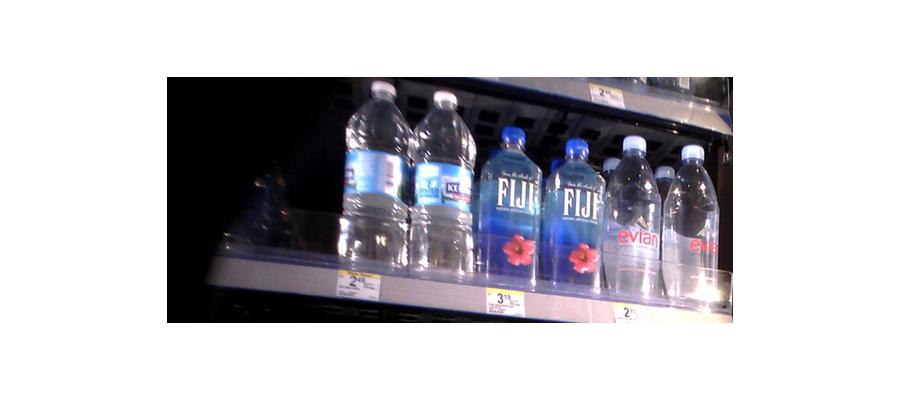bottle: (339, 81, 413, 272), (412, 91, 475, 276), (478, 123, 545, 292), (604, 134, 664, 303), (665, 140, 720, 309), (549, 137, 604, 294), (246, 157, 289, 249)
